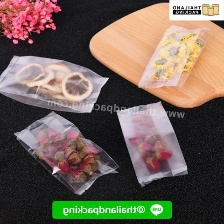snack: (9, 106, 124, 199), (0, 48, 115, 116), (112, 95, 194, 190), (133, 20, 215, 96)
